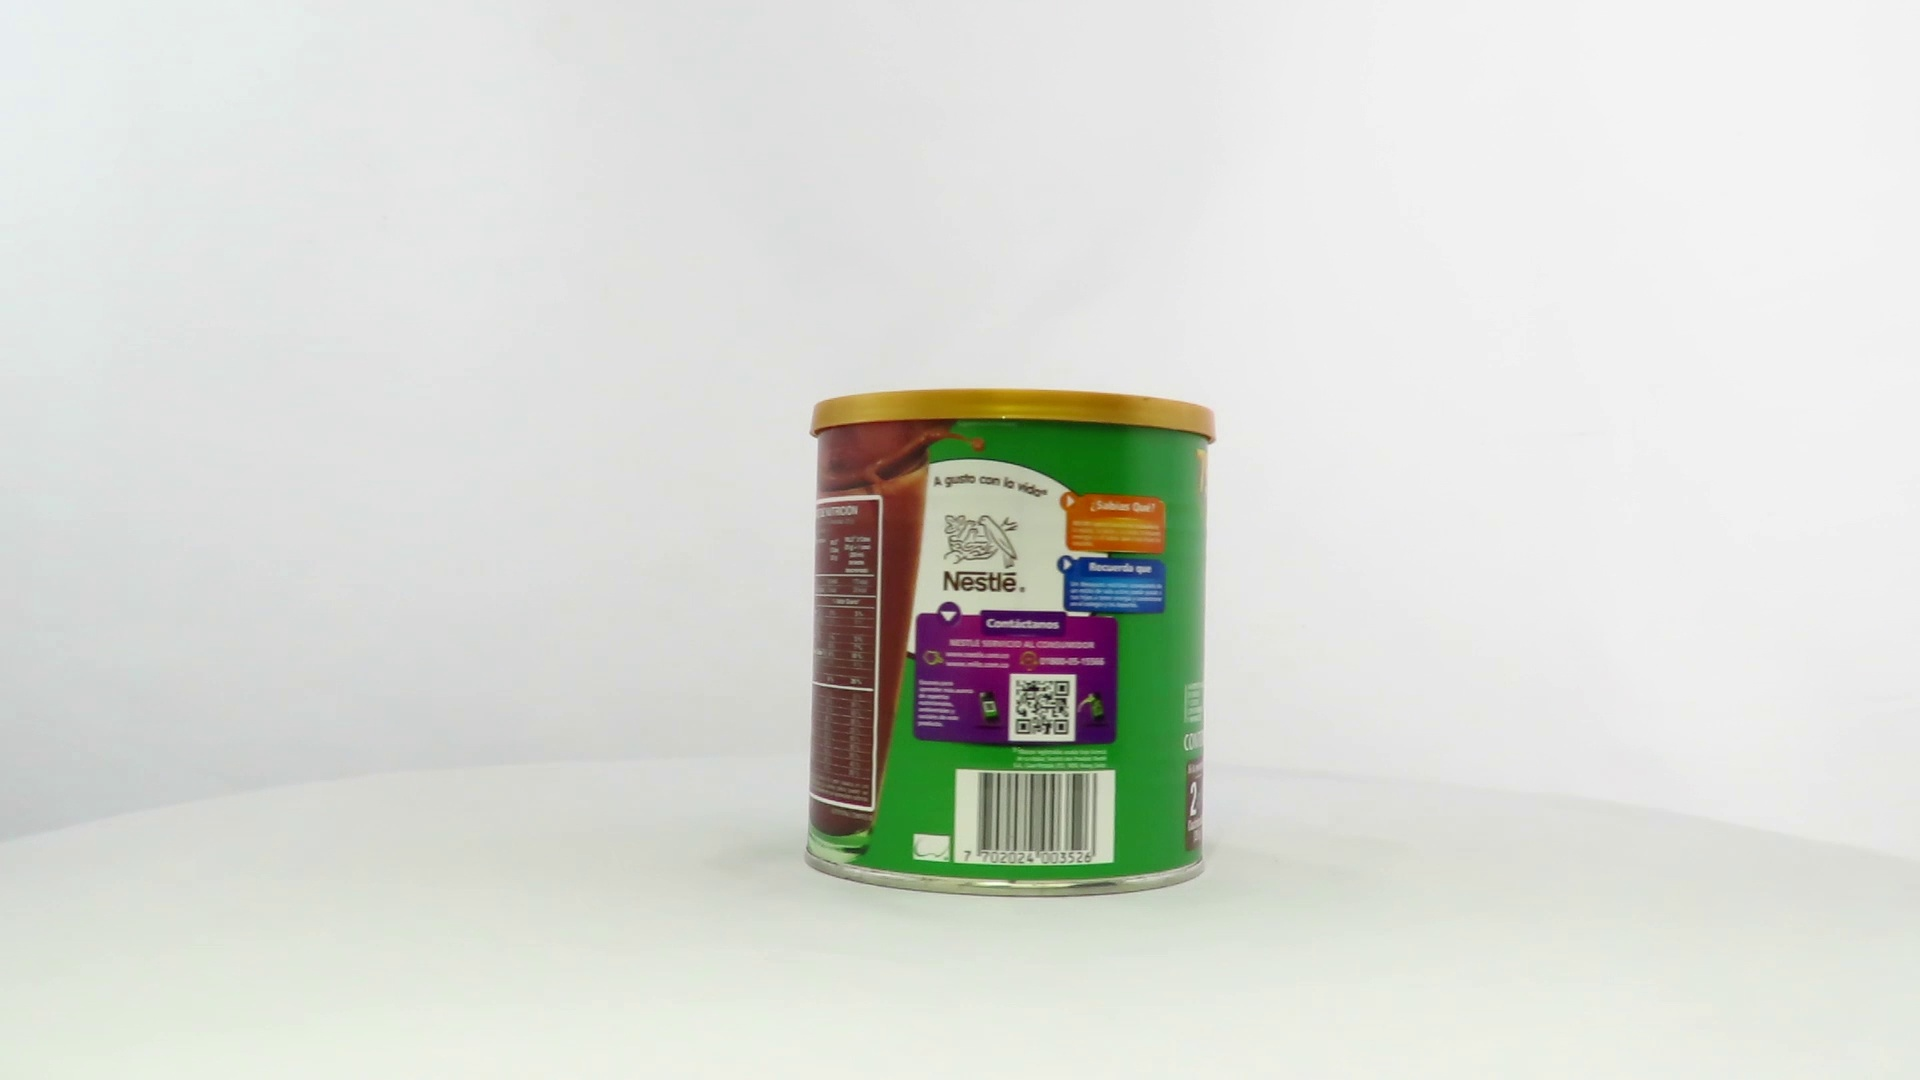COL0170203LAT40000: (799, 382, 1222, 905)
